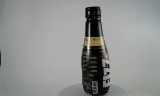appyfizz: (74, 5, 103, 95)
